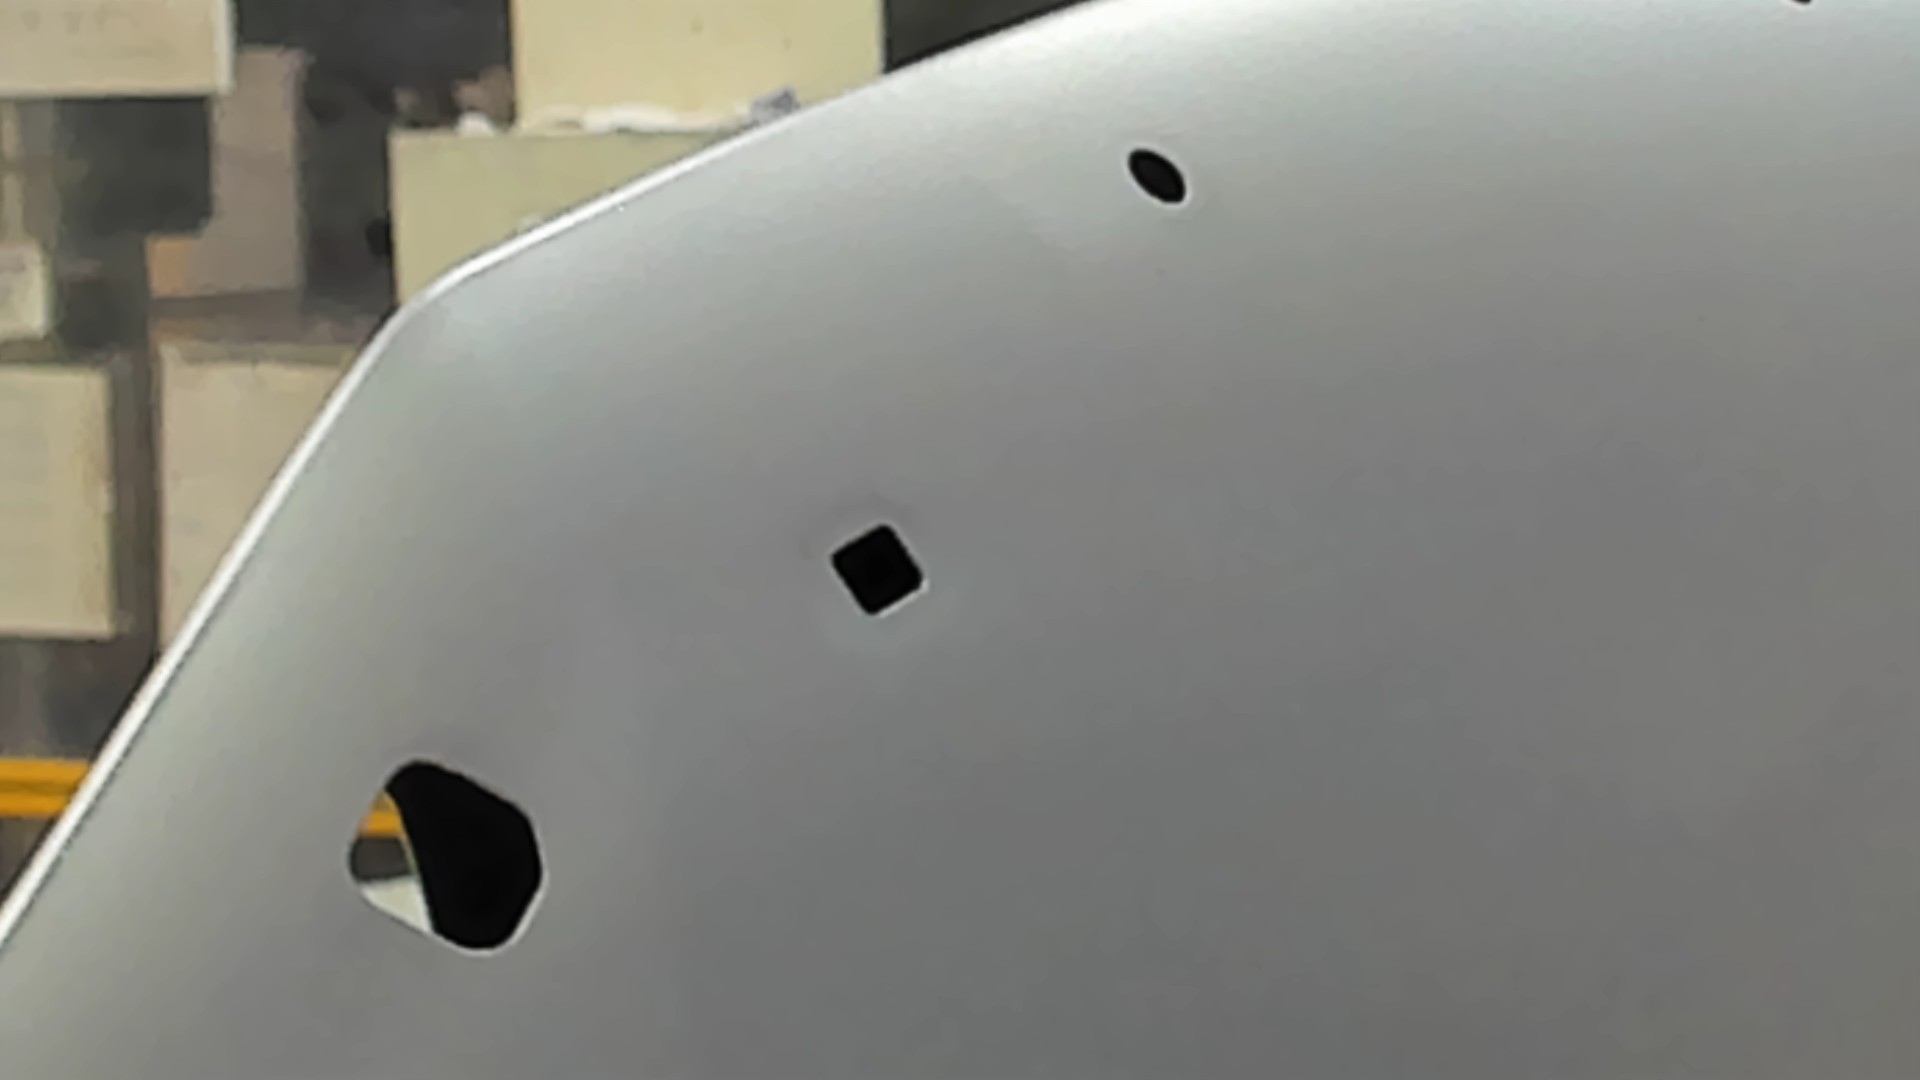chico: (1124, 145, 1193, 208)
grande: (343, 756, 555, 959)
mediano: (827, 520, 928, 622)
